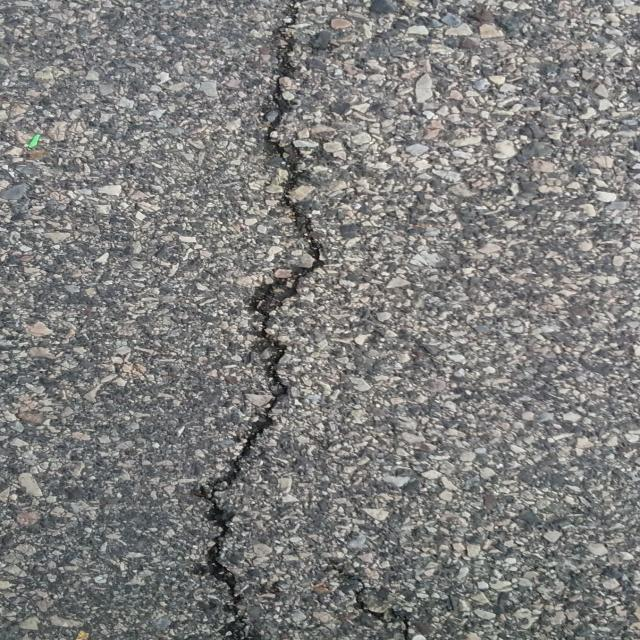Crack: (184, 0, 330, 640), (348, 575, 412, 640)
